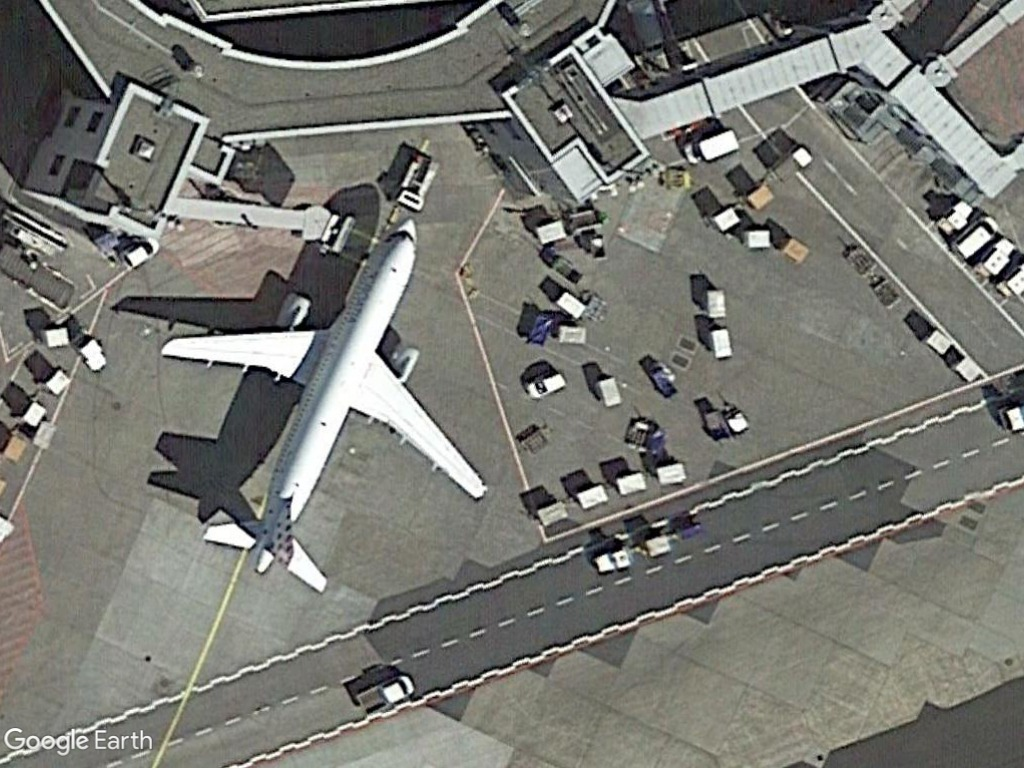airliner: (149, 176, 489, 617)
van: (517, 360, 570, 407)
